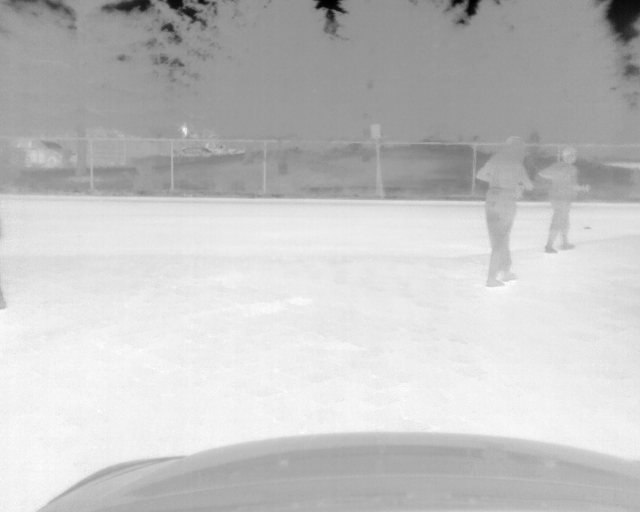people: (474, 137, 534, 288), (536, 149, 592, 253)
